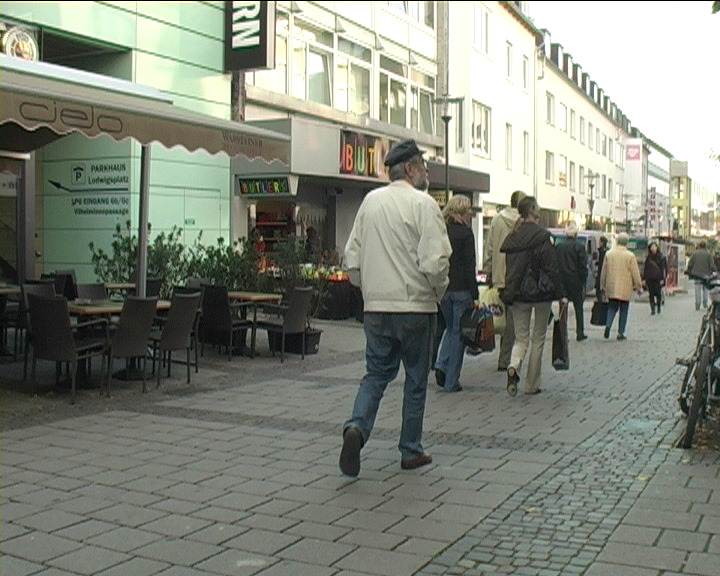deflection: (354, 138, 439, 259), (511, 196, 558, 275)
